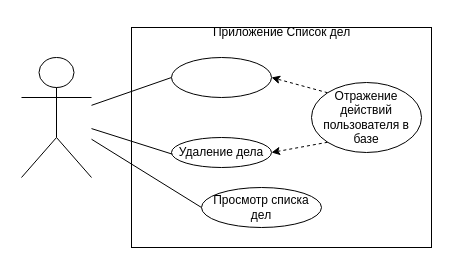
Image size: 449x265. Some labels were removed from this diagram. The shapes that lost their labels are listed below. From the top down, each one's box as (x1, y1, x2, y2) in pixels, then its label:
(170, 56, 272, 98): Сохранение дела
(20, 56, 92, 178): Пользователь
